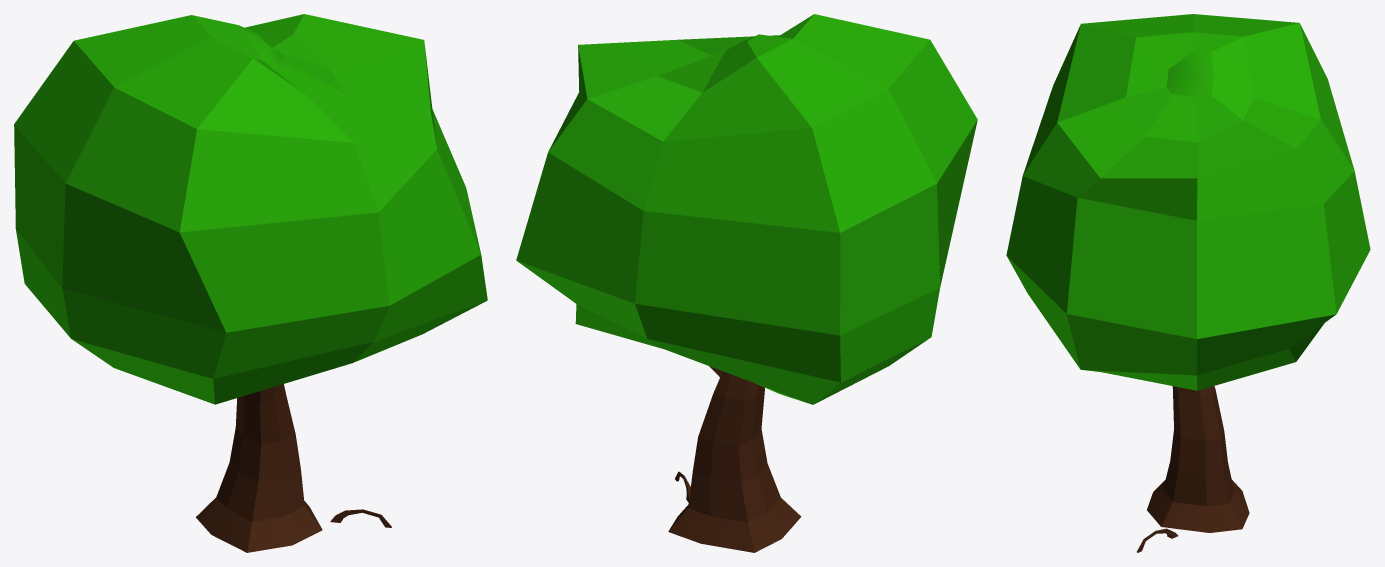
The model's file is Tree#1.FBX.
3 views of the same model, side by side, from view 1: azimuth 30°, elevation 25°; view 2: azimuth 150°, elevation 25°; view 3: azimuth 270°, elevation 25° (orthographic). The views are drawn at different scales.
Parts seen in each view (by area): view 1: Tree 1; view 2: Tree 1; view 3: Tree 1.
Boxes of the visible parts, x1=… form: Tree 1: x1=14, y1=14, x2=487, y2=552; Tree 1: x1=516, y1=14, x2=977, y2=552; Tree 1: x1=1006, y1=14, x2=1370, y2=552.
Size of the model in its own units: 235 by 279 by 203.
